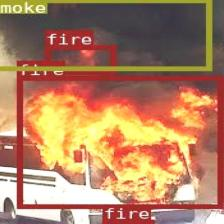fire: (15, 76, 221, 208), (44, 45, 114, 73), (101, 218, 153, 224)
smoke: (0, 0, 210, 70)
